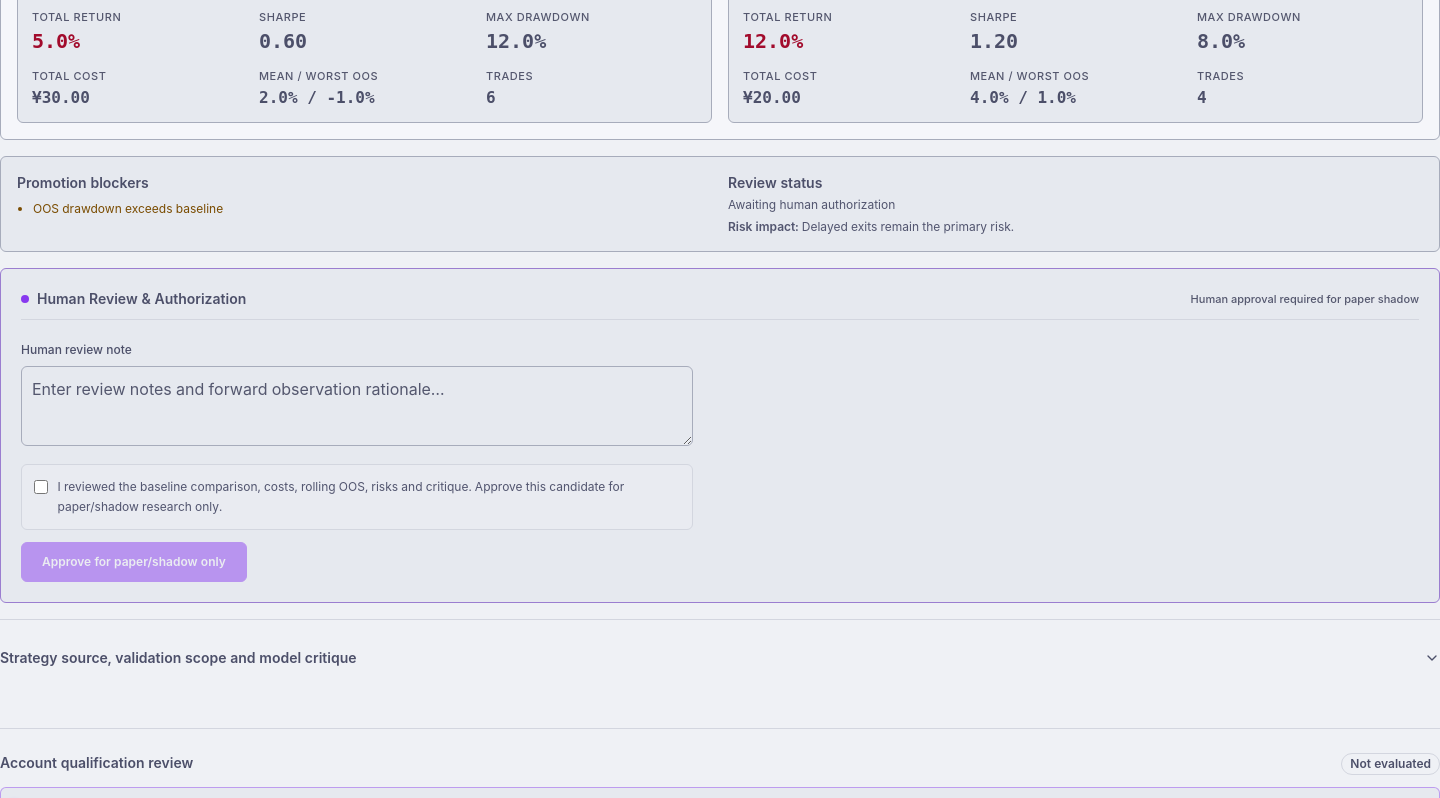
Test: displays clear error on candidate card when paper-shadow approval fails
(page scrolled)
Expected: the button "Approve for paper/shadow only" is disabled, [21, 542, 247, 582]
Type "Reviewed cost, drawdown, OOS, and critique." into the text box labelled "Human review note" at {"x": 357, "y": 406}, box [21, 366, 693, 446]
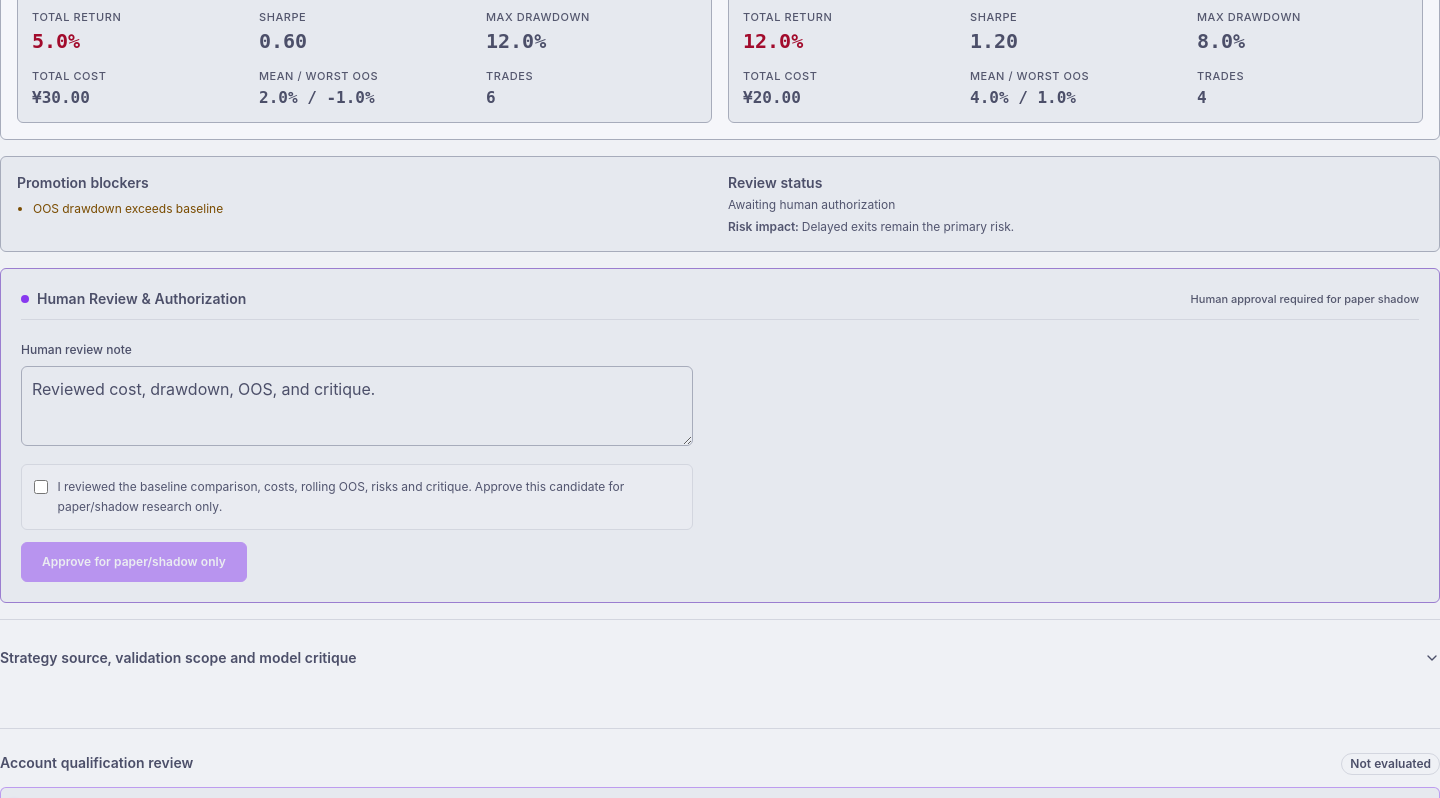
Click the text "I reviewed the baseline comparison, costs, rolling OOS, risks and critique. Approve this candidate for paper/shadow rese" at {"x": 369, "y": 496}, box [58, 476, 680, 516]
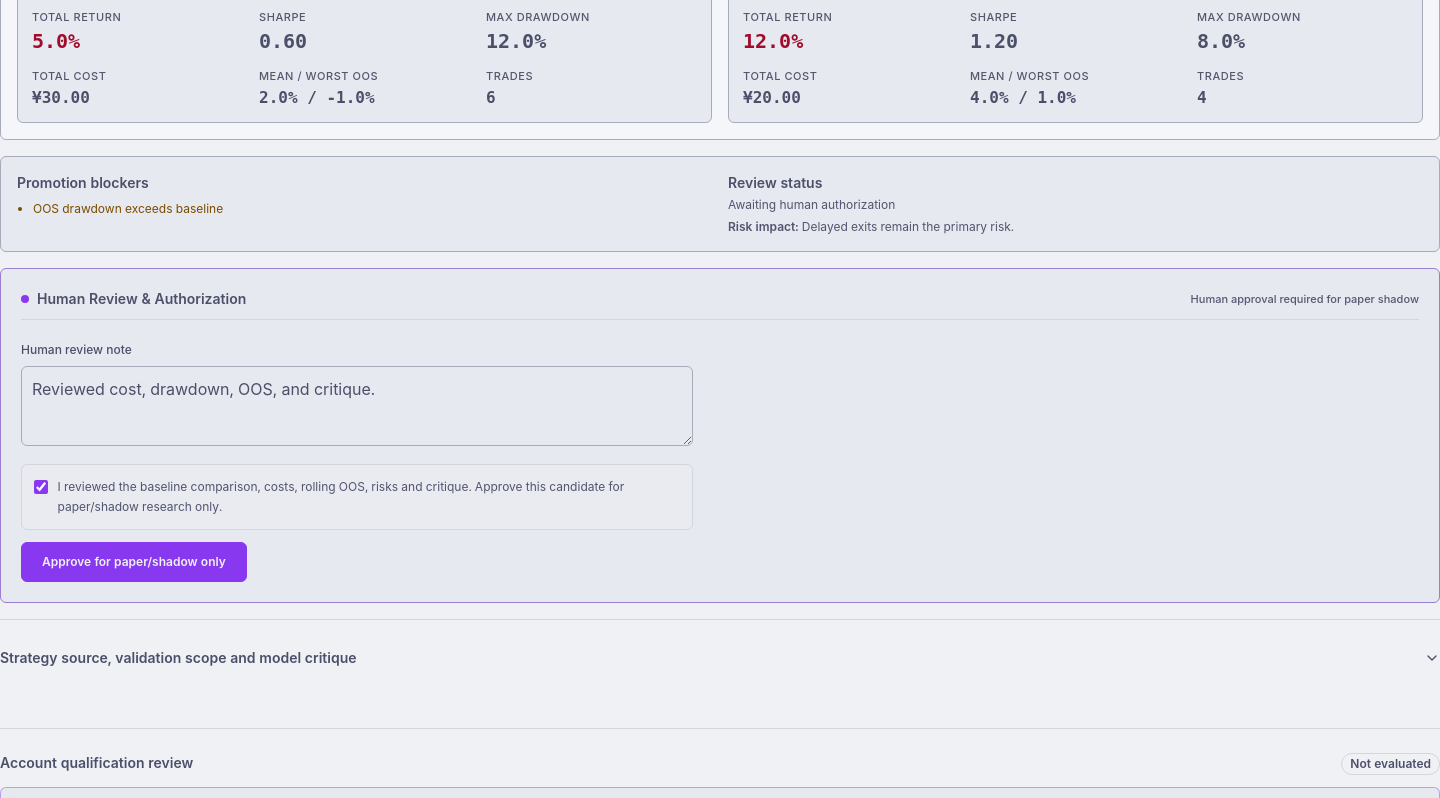
Result: the button "Approve for paper/shadow only" is enabled
Click the button "Approve for paper/shadow only" at {"x": 134, "y": 562}, box [21, 542, 247, 582]
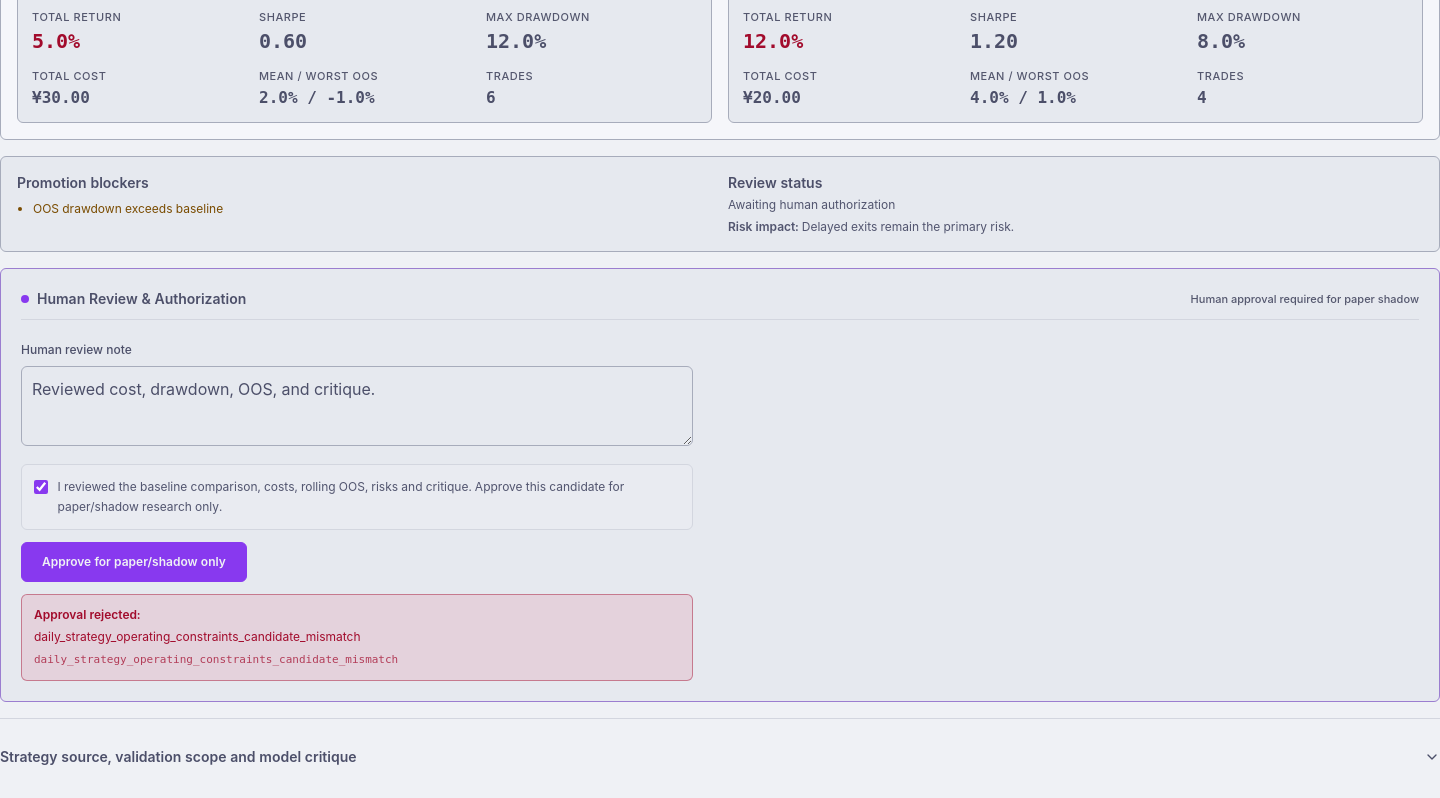
Result: the message is shown at [21, 594, 693, 681]
Result: the message shows "daily_strategy_operating_constraints_candidate_mismatch" at [34, 628, 361, 644]
